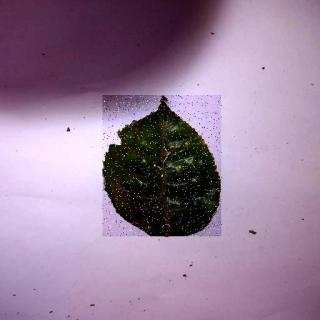Anthracnose: (104, 96, 224, 237)
